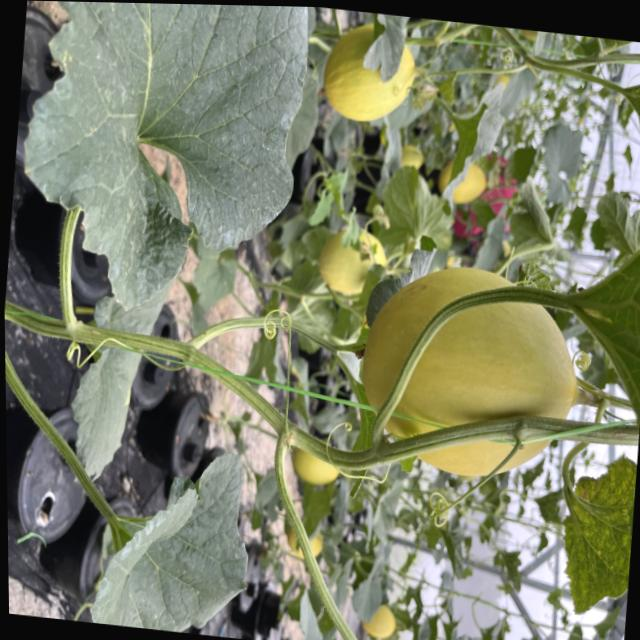CMV: (545, 440, 640, 630), (619, 53, 640, 188)
downy mildew: (0, 0, 322, 347), (75, 447, 258, 639)
